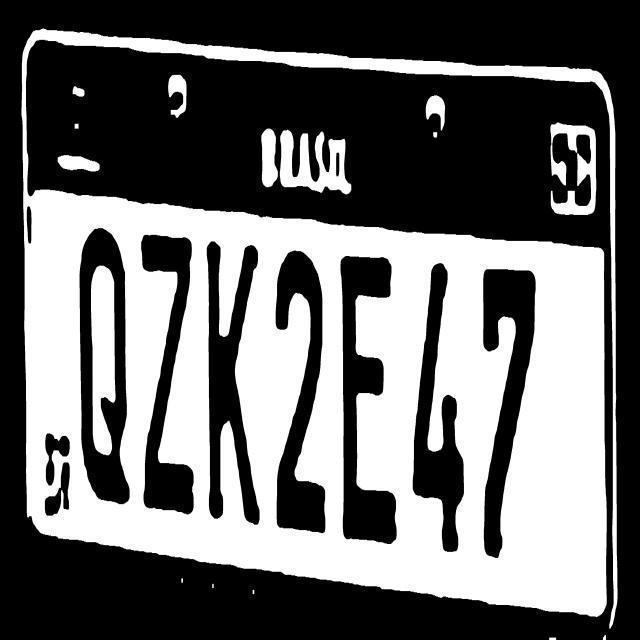2: (275, 241, 328, 537)
4: (409, 252, 466, 554)
7: (479, 270, 536, 559)
e: (336, 250, 399, 556)
k: (203, 229, 263, 532)
q: (78, 221, 131, 507)
z: (139, 228, 197, 520)
